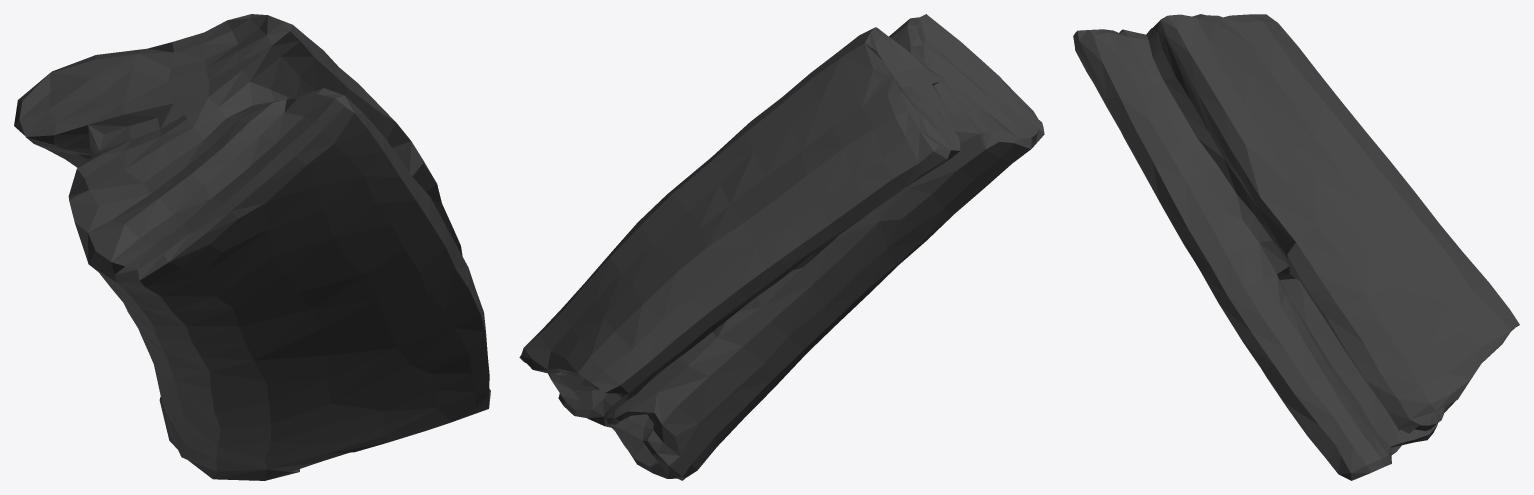
Rendered from Lower_M3_1.glb.
3 renders of one model, left to right at view 1: azimuth 30°, elevation 25°; view 2: azimuth 150°, elevation 25°; view 3: azimuth 270°, elevation 25°, orthographic. The views are drawn at different scales.
Parts seen in each view (by area): view 1: Lower_M3_1; view 2: Lower_M3_1; view 3: Lower_M3_1.
Part boxes in pixels (x1=…): Lower_M3_1: x1=14, y1=14, x2=490, y2=480; Lower_M3_1: x1=519, y1=14, x2=1044, y2=480; Lower_M3_1: x1=1073, y1=14, x2=1519, y2=480.
Size of the model in its own units: 0.6282 by 0.6323 by 0.6569.
1 material, 1 textured.
